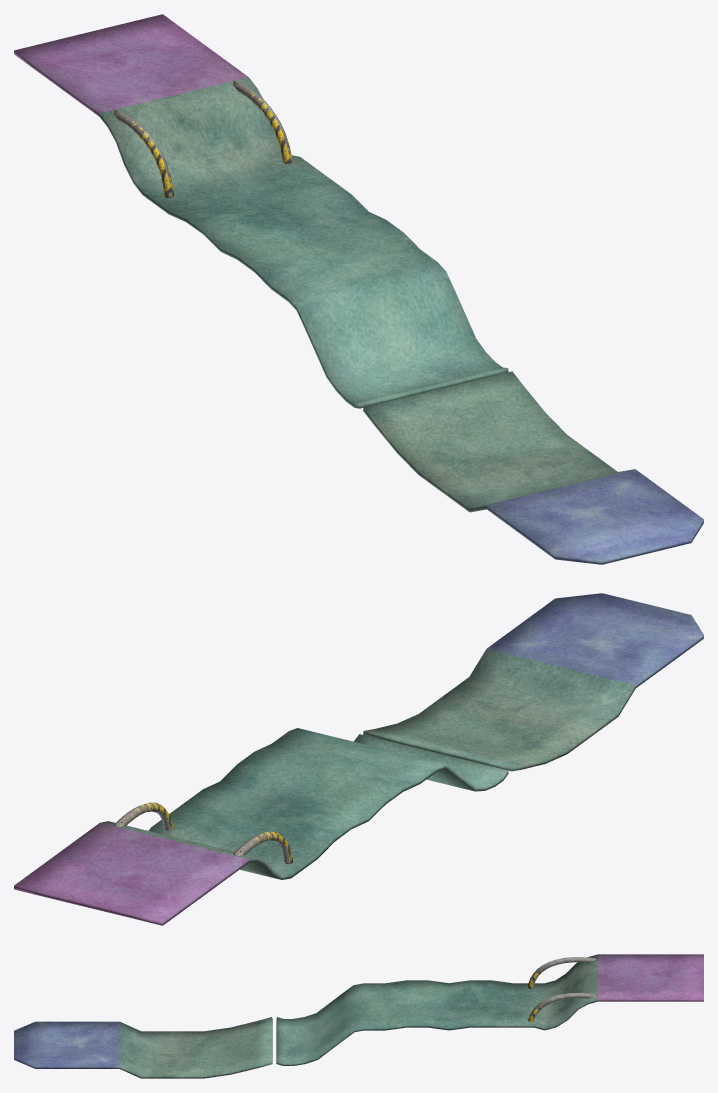
The model's file is level5.dae.
The picture shows the model from 3 angles, top to bottom: view 1: azimuth 30°, elevation 25°; view 2: azimuth 150°, elevation 25°; view 3: azimuth 270°, elevation 25°; orthographic projection. The views are drawn at different scales.
Visible parts, largest first — view 1: Plane; view 2: Plane; view 3: Plane.
Boxes of the visible parts, x1,y1,x2,y2 form: Plane: (14, 14, 703, 564); Plane: (14, 593, 703, 925); Plane: (14, 954, 703, 1078).
Size of what is drawn, in the model's own units: 10 by 65 by 8.45.
Materials: 4 (4 with a texture image).
